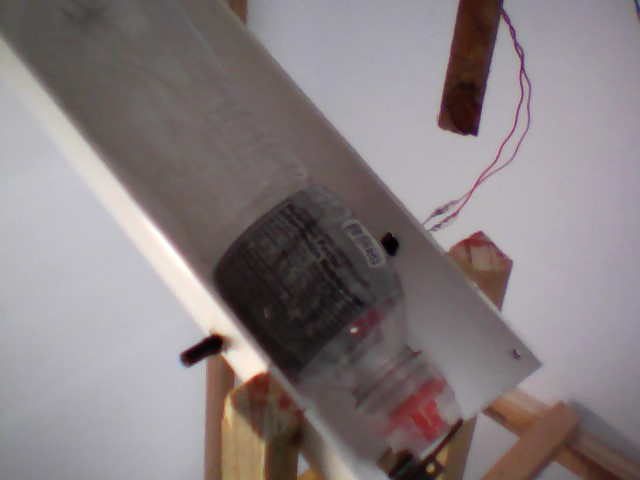plastico: (31, 1, 470, 462)
